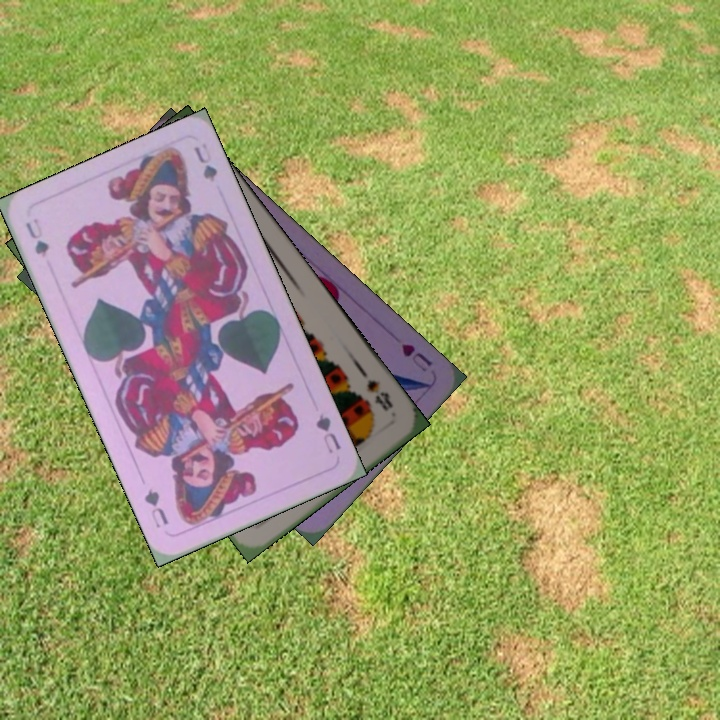GU: (311, 409, 344, 456), (21, 214, 52, 260)
HU: (397, 339, 435, 375)
S8: (362, 375, 396, 414)
